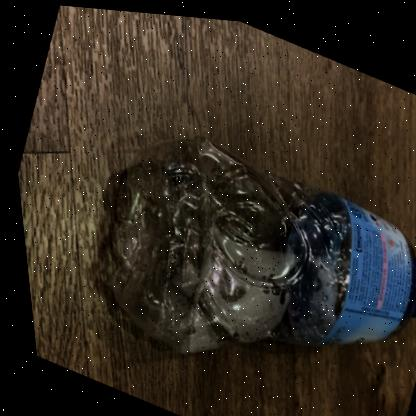Plastic: (105, 133, 416, 350)
